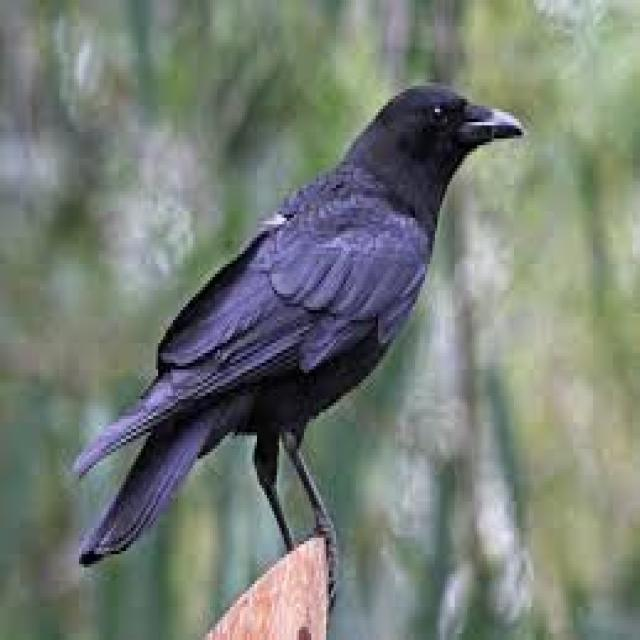crow: (240, 49, 524, 362)
